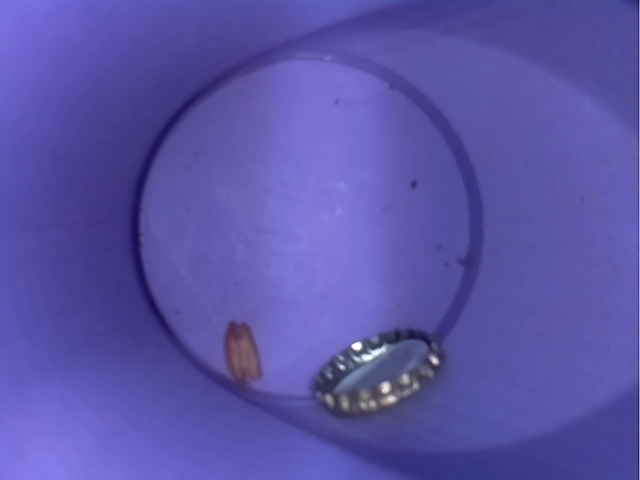capsule: (301, 321, 459, 422)
croquette: (210, 307, 268, 394)
